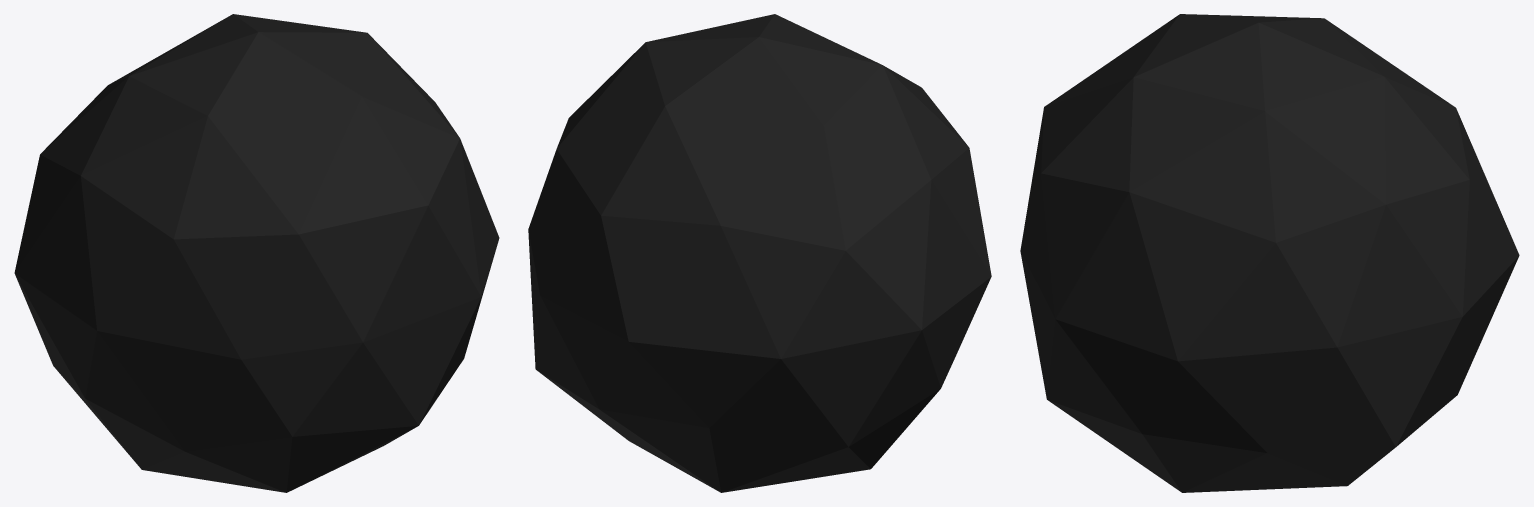
Rendered from rock.fbx.
3 views of the same model, side by side, from view 1: azimuth 30°, elevation 25°; view 2: azimuth 150°, elevation 25°; view 3: azimuth 270°, elevation 25° (orthographic). The views are drawn at different scales.
Parts seen in each view (by area): view 1: Icosphere; view 2: Icosphere; view 3: Icosphere.
Boxes of the visible parts, x1,y1,x2,y2 form: Icosphere: (14, 14, 499, 492); Icosphere: (528, 14, 991, 492); Icosphere: (1020, 14, 1519, 492).
Size of the model in its own units: 38.81 by 40.33 by 39.59.
